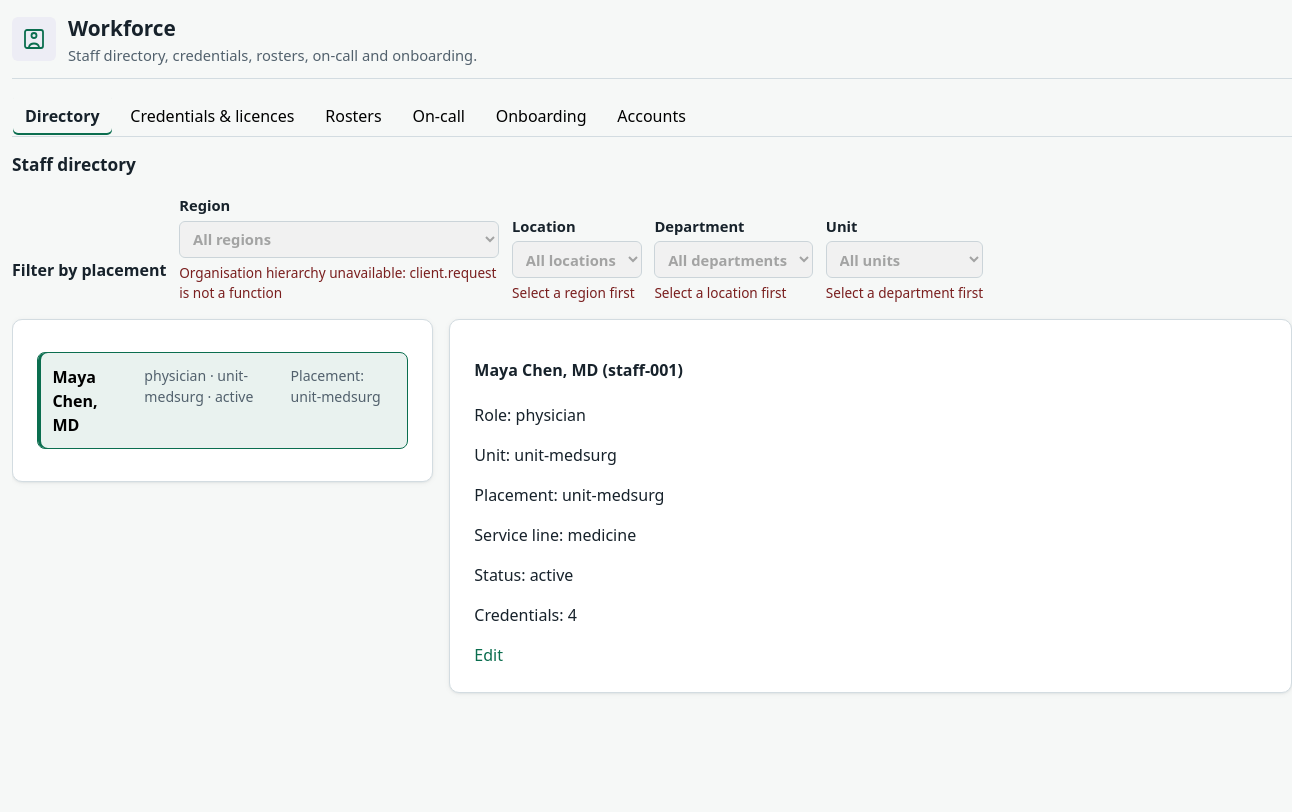
Scenario: WorkforcePage (Phase 13) › admin can run the credential scan and sees the outcome
Step 1. Click the tab "Credentials & licences" → (212, 116), box [117,95,308,136]
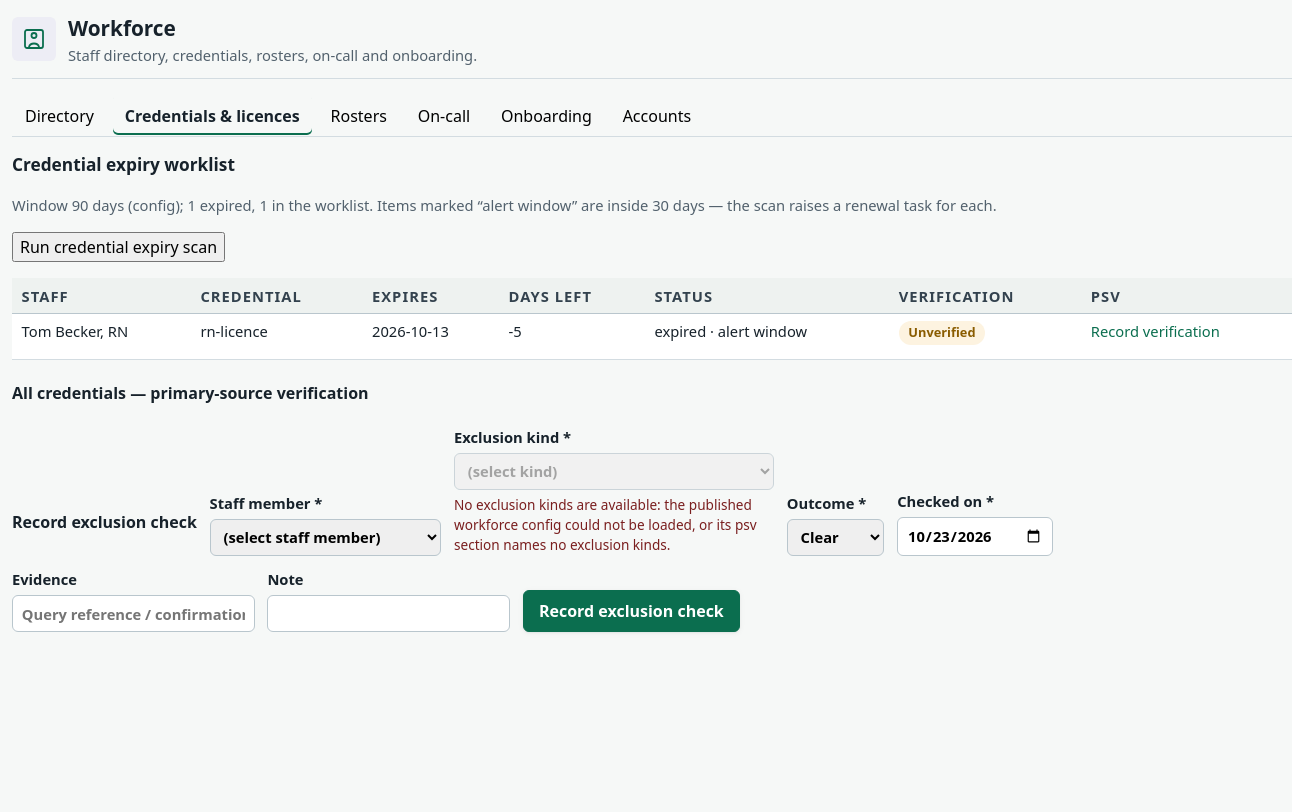
Step 2. Click the button "Run credential expiry scan" → (119, 247), box [12,232,225,262]
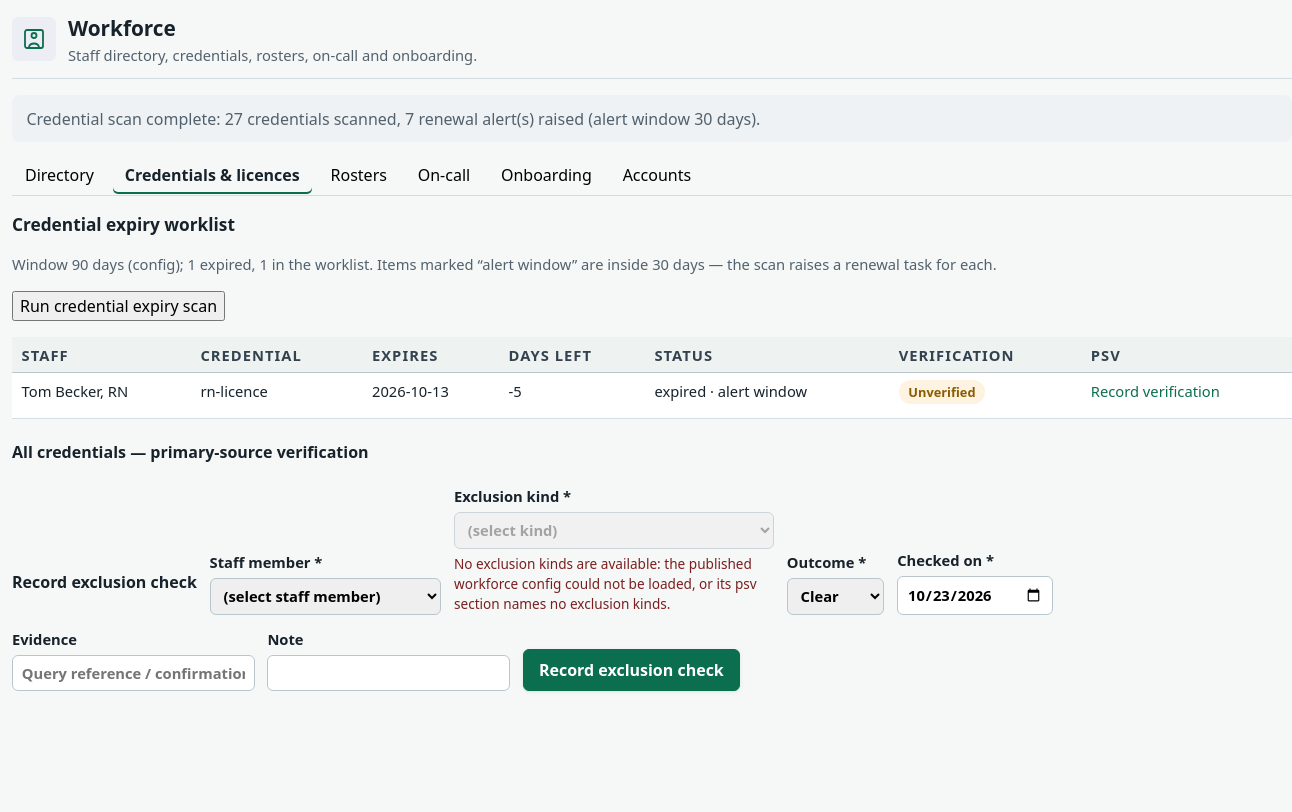
expect the text "27 credentials scanned, 7 renewal alert" is shown: met, box [26,108,760,130]
